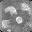people: (5, 6, 17, 17), (2, 20, 11, 28), (16, 16, 23, 24)
